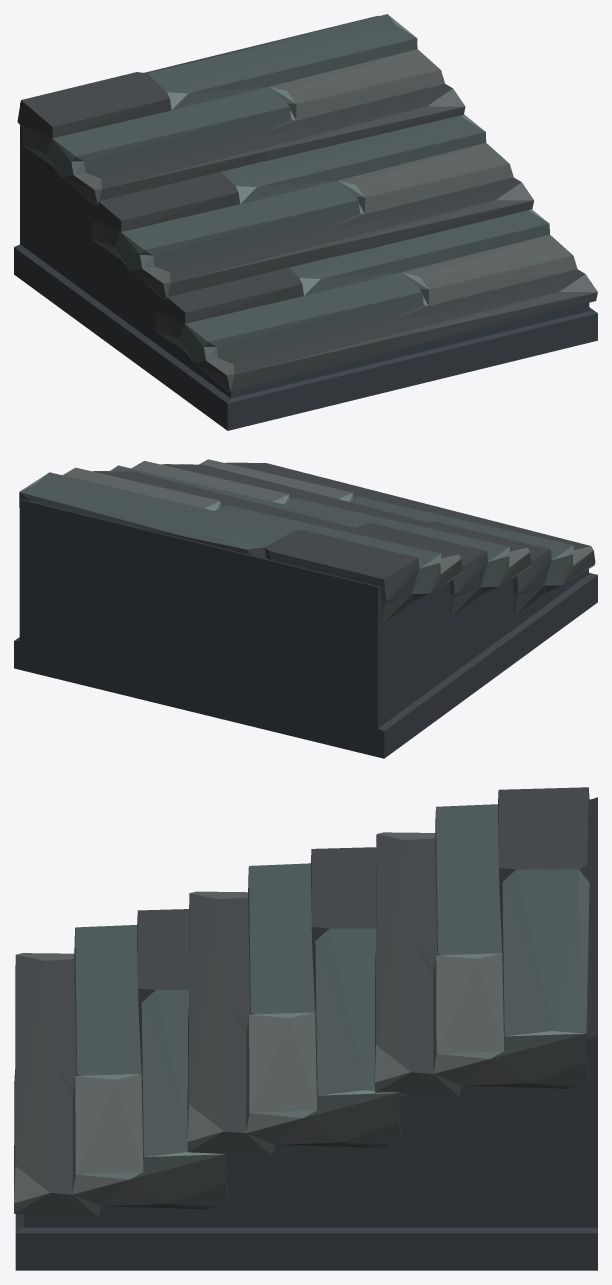
Rendered from MDungeons_StepsSimple.FBX.
3 views of the same model, one above another, from view 1: azimuth 30°, elevation 25°; view 2: azimuth 150°, elevation 25°; view 3: azimuth 270°, elevation 25° (orthographic). The views are drawn at different scales.
Parts seen in each view (by area): view 1: MDungeons_StepsSimple_LOD0; view 2: MDungeons_StepsSimple_LOD0; view 3: MDungeons_StepsSimple_LOD0.
Boxes of the visible parts, left/top/right/bottom form: MDungeons_StepsSimple_LOD0: left=14, top=14, right=597, bottom=430; MDungeons_StepsSimple_LOD0: left=14, top=459, right=597, bottom=758; MDungeons_StepsSimple_LOD0: left=14, top=787, right=597, bottom=1270.
Size of what is drawn, in the model's own units: 5.98 by 2.71 by 5.99.
